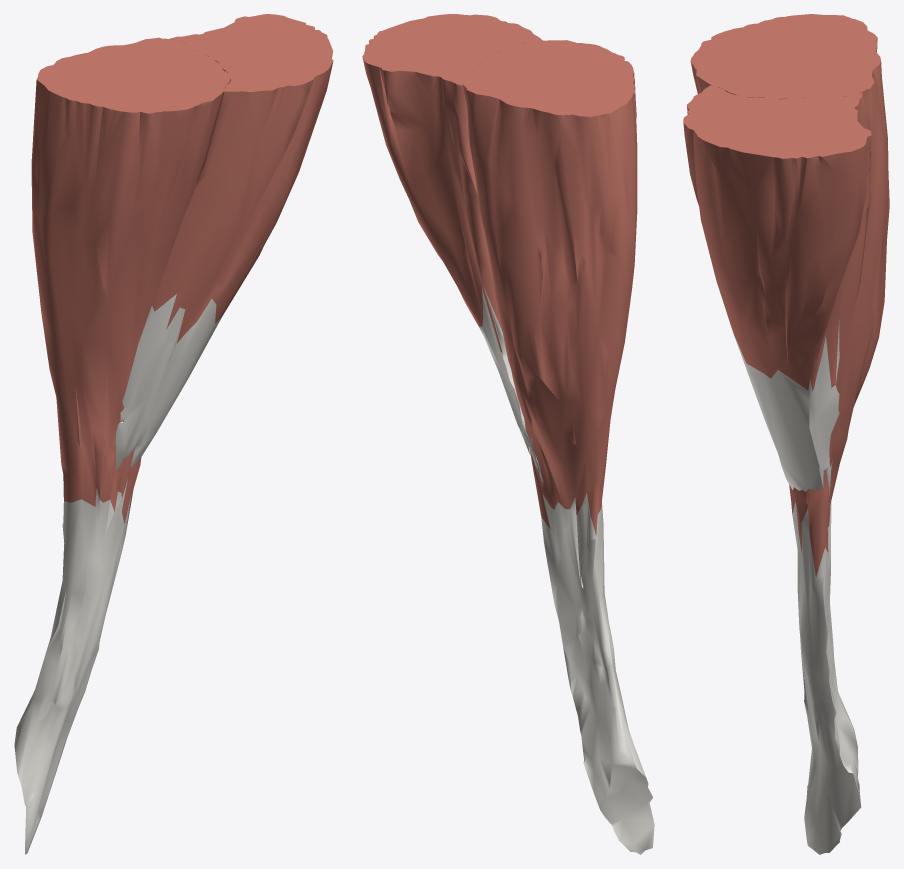
Rendered from biceps-brachial.glb.
3 views of the same model, side by side, from view 1: azimuth 30°, elevation 25°; view 2: azimuth 150°, elevation 25°; view 3: azimuth 270°, elevation 25° (orthographic). The views are drawn at different scales.
Parts seen in each view (by area): view 1: biceps-brachial; view 2: biceps-brachial; view 3: biceps-brachial.
Boxes of the visible parts, box(x1,y1,x2,y2) form: biceps-brachial: box(14, 14, 333, 854); biceps-brachial: box(362, 14, 654, 854); biceps-brachial: box(683, 14, 889, 854).
Bounding box in the file's own units: 0.0626 × 0.1562 × 0.0344.
